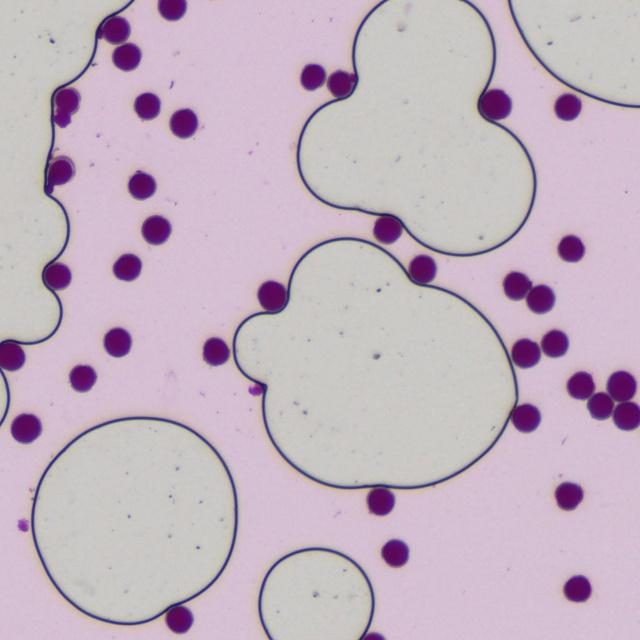viable: (480, 89, 510, 119), (607, 370, 636, 401), (142, 215, 171, 244), (11, 414, 40, 443), (511, 403, 540, 432), (258, 281, 286, 311), (112, 43, 141, 71), (526, 285, 554, 313), (503, 271, 531, 299), (48, 157, 74, 187), (104, 327, 130, 357), (567, 371, 594, 399), (512, 339, 539, 367), (409, 255, 436, 283), (128, 171, 155, 199), (172, 108, 197, 138), (102, 16, 129, 43), (367, 488, 394, 515), (555, 482, 582, 509), (613, 402, 639, 430), (44, 262, 70, 289), (69, 365, 96, 391), (374, 216, 401, 242), (134, 92, 160, 119), (114, 254, 141, 280), (382, 539, 408, 566), (542, 330, 568, 357), (587, 393, 613, 419), (558, 235, 584, 261), (166, 606, 192, 632), (327, 70, 352, 97), (0, 342, 24, 370), (205, 337, 229, 365), (555, 94, 580, 120), (54, 87, 79, 113), (565, 576, 590, 601), (301, 64, 325, 90), (158, 0, 185, 20), (363, 632, 384, 639)
